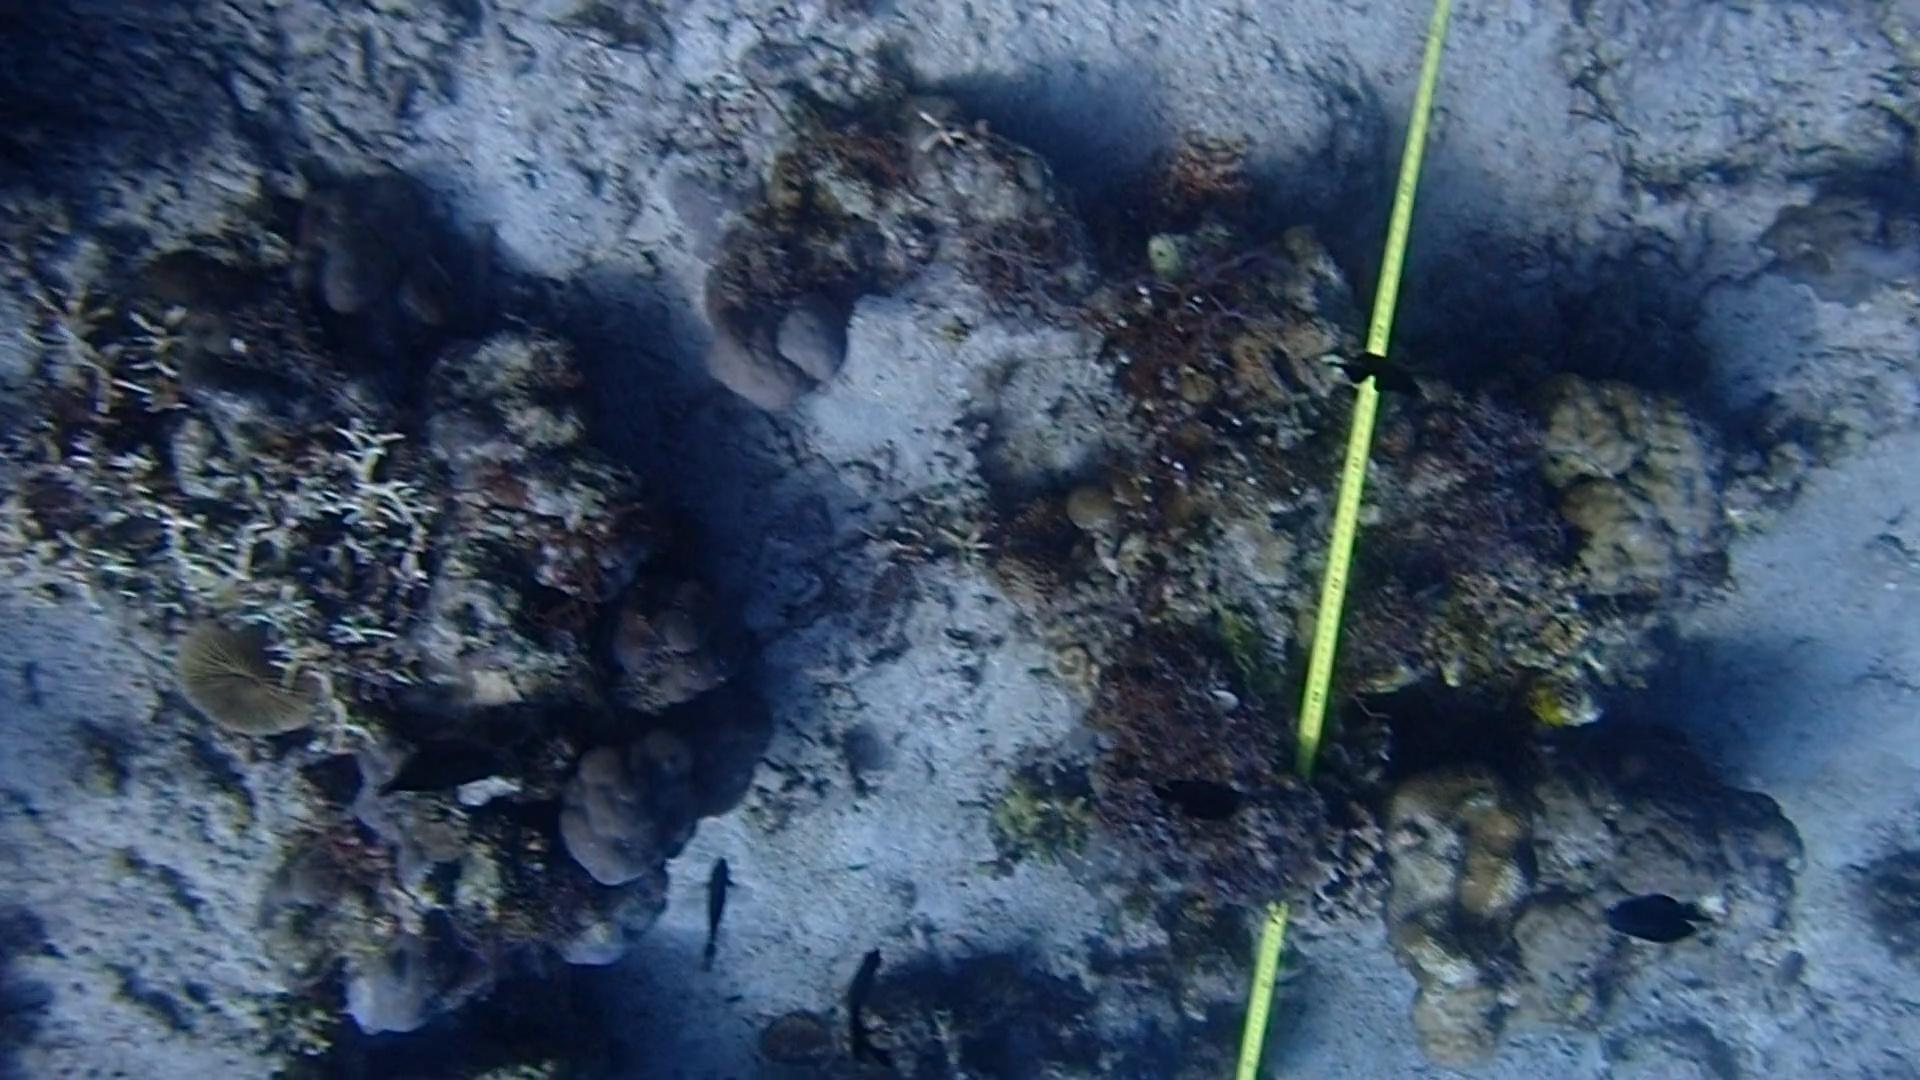Dark Fish: (360, 725, 517, 815), (678, 849, 760, 975), (815, 939, 899, 1059), (1153, 756, 1261, 840), (1596, 874, 1706, 949), (1342, 342, 1423, 397)
